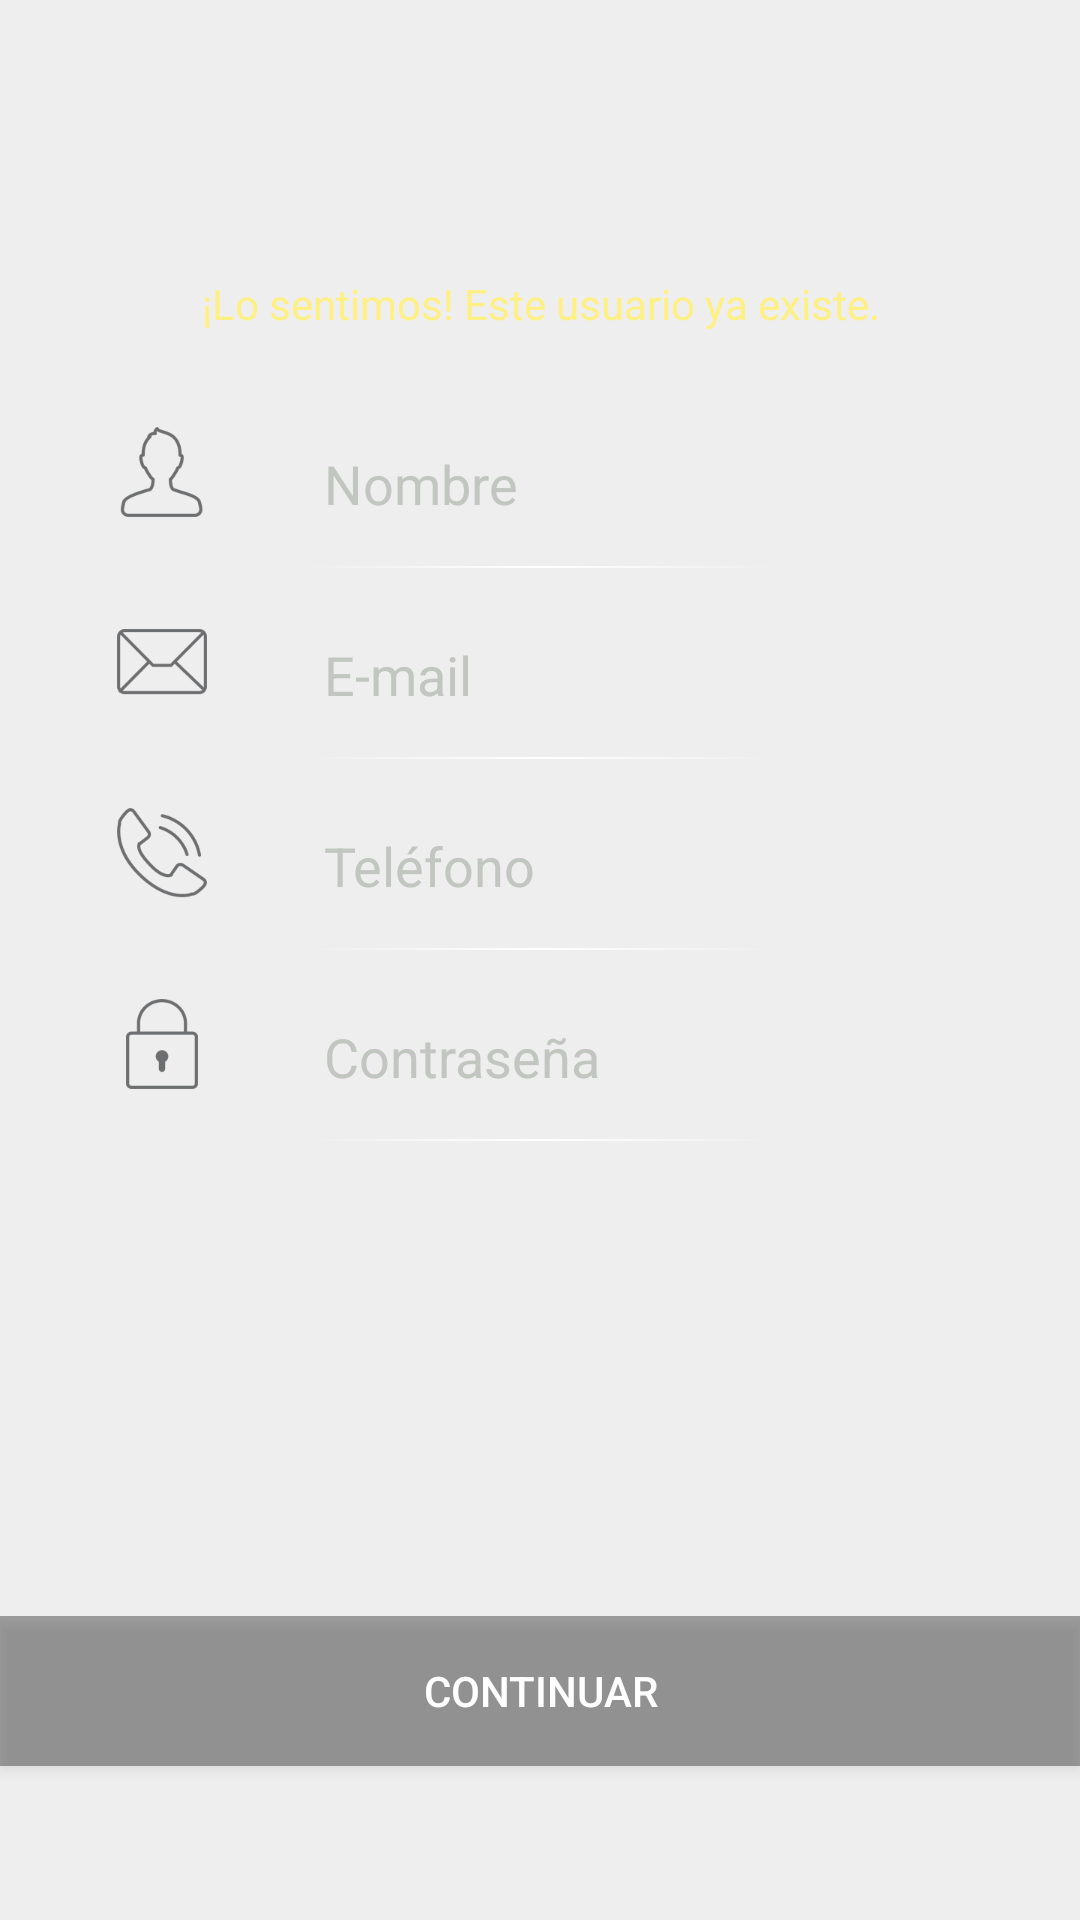

Icon bounding boxes for this 1080px×1920px phone screenshot, format (x1, y1, x2, y2):
password: (126, 999, 198, 1089)
phone: (117, 808, 207, 897)
